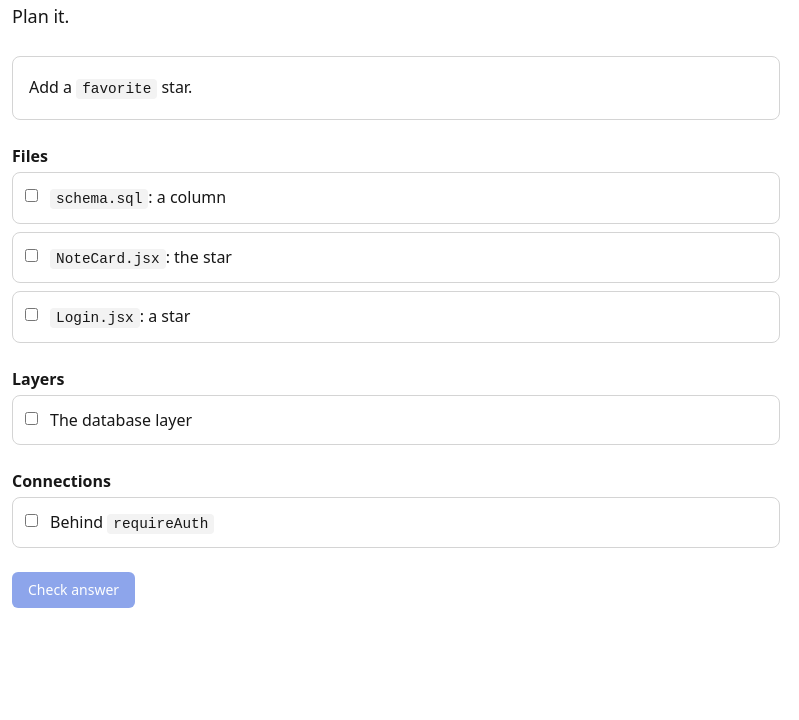
Test: BuildInput › groups the checklist and sends the ticked items
This screenshot has width=799, height=720.
Check: the text "favorite" is shown, box [76,79,157,99]
Check: the button "Check answer" is disabled, box [12,572,135,608]
Click the checkbox labelled "schema.sql: a column".
click(32, 196)  # box [25,189,38,202]
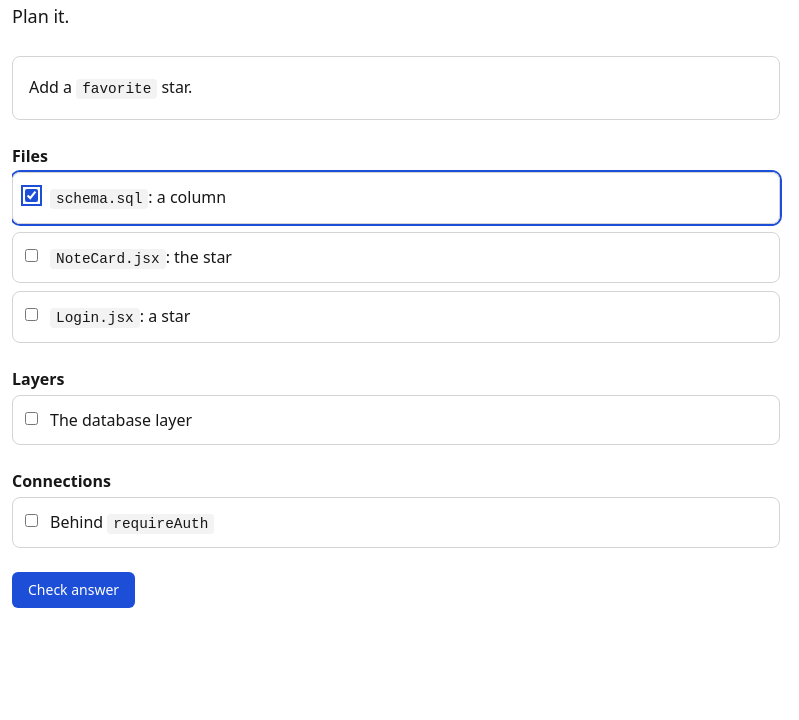
Click the checkbox labelled "NoteCard.jsx: the star".
click(32, 255)  # box [25,249,38,262]
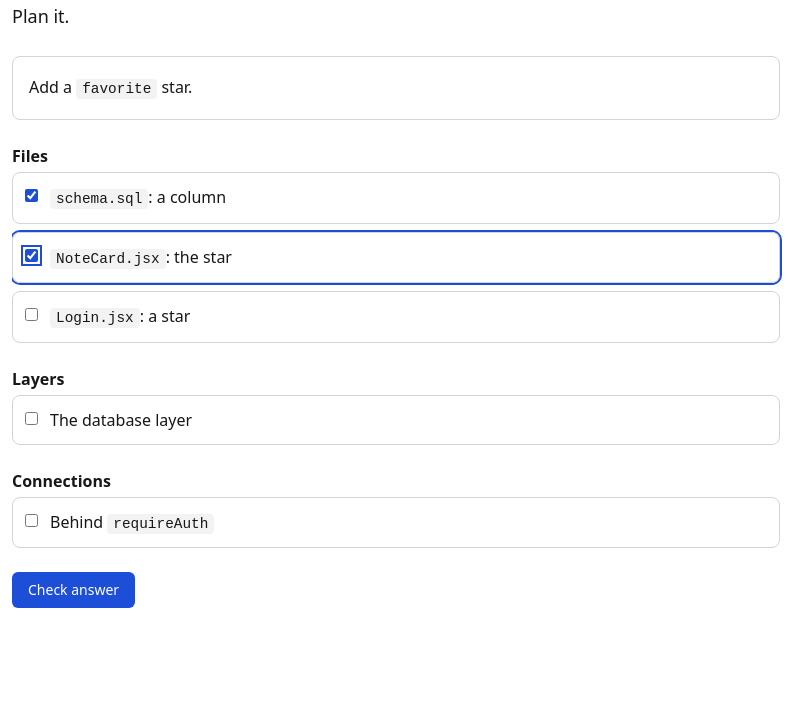
Click the checkbox labelled "The database layer".
click(32, 418)  # box [25,412,38,425]
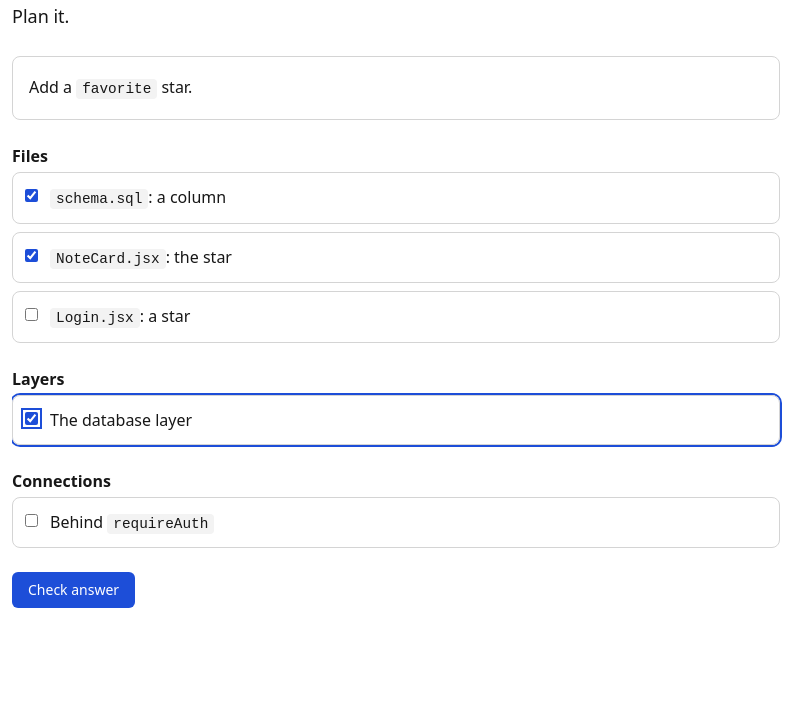
Click the checkbox labelled "Behind requireAuth".
click(32, 520)  # box [25,514,38,527]
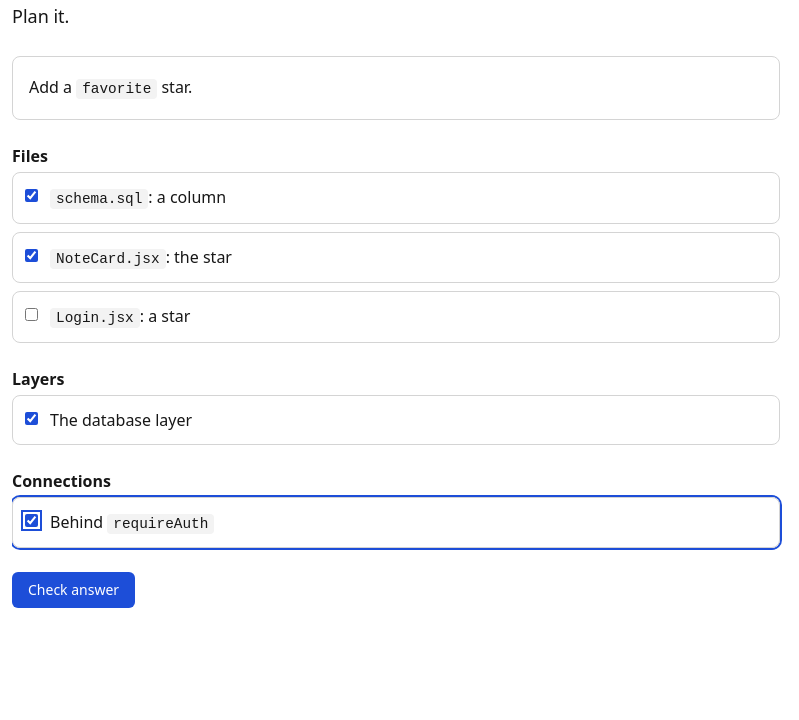
Click the button "Check answer".
click(74, 590)  # box [12,572,135,608]
(page scrolled)
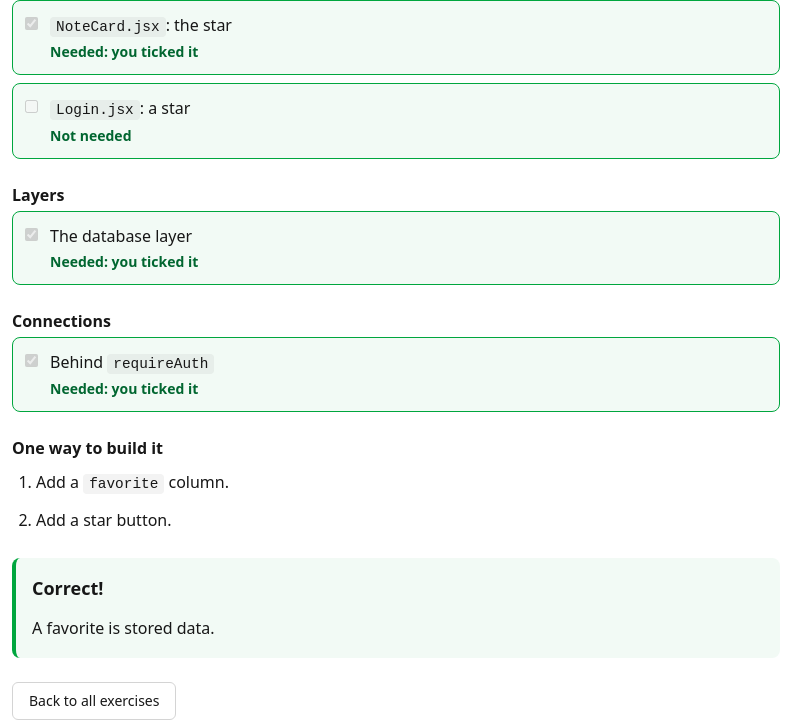
Check: the heading "Correct!" is shown, box [32,576,104,600]
Check: the number of list items is 2, box [36,471,229,494]; [36,509,172,531]
